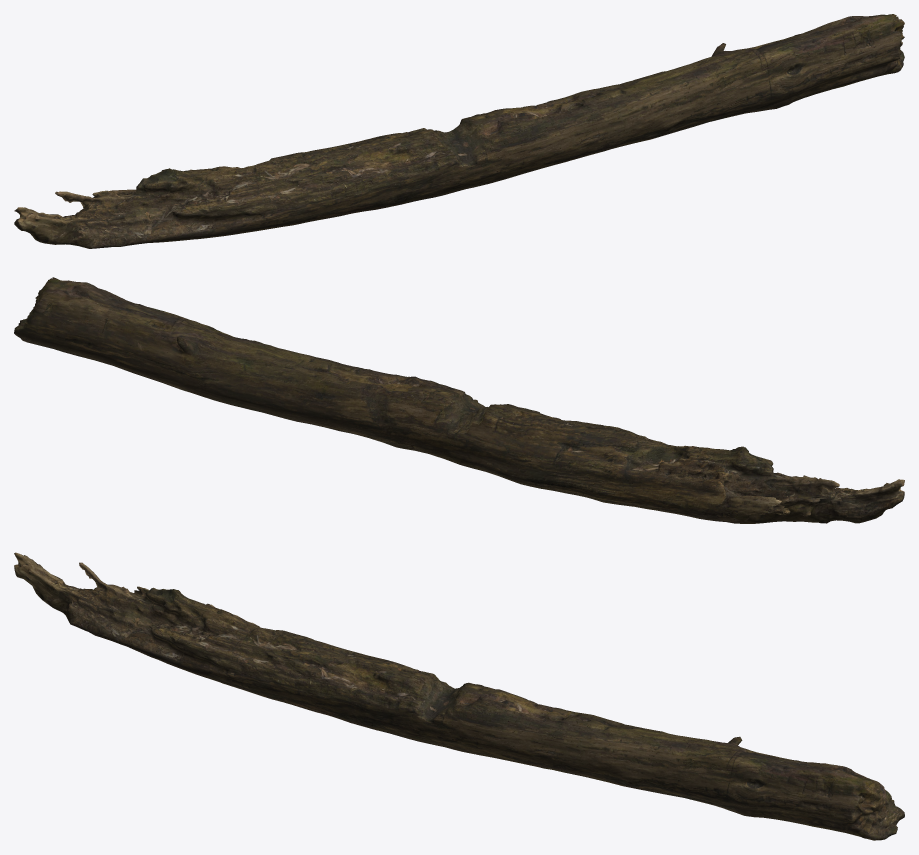
Rendered from dead_tree_trunk.fbx.
The picture shows the model from 3 angles, top to bottom: view 1: azimuth 30°, elevation 25°; view 2: azimuth 150°, elevation 25°; view 3: azimuth 330°, elevation 25°; orthographic projection.
Visible parts, largest first — view 1: dead_tree_trunk; view 2: dead_tree_trunk; view 3: dead_tree_trunk.
Boxes of the visible parts, x1,y1,x2,y2 form: dead_tree_trunk: (14, 14, 904, 248); dead_tree_trunk: (14, 277, 904, 523); dead_tree_trunk: (14, 552, 904, 840).
Bounding box in the file's own units: 3.05 × 0.2896 × 0.2772.
